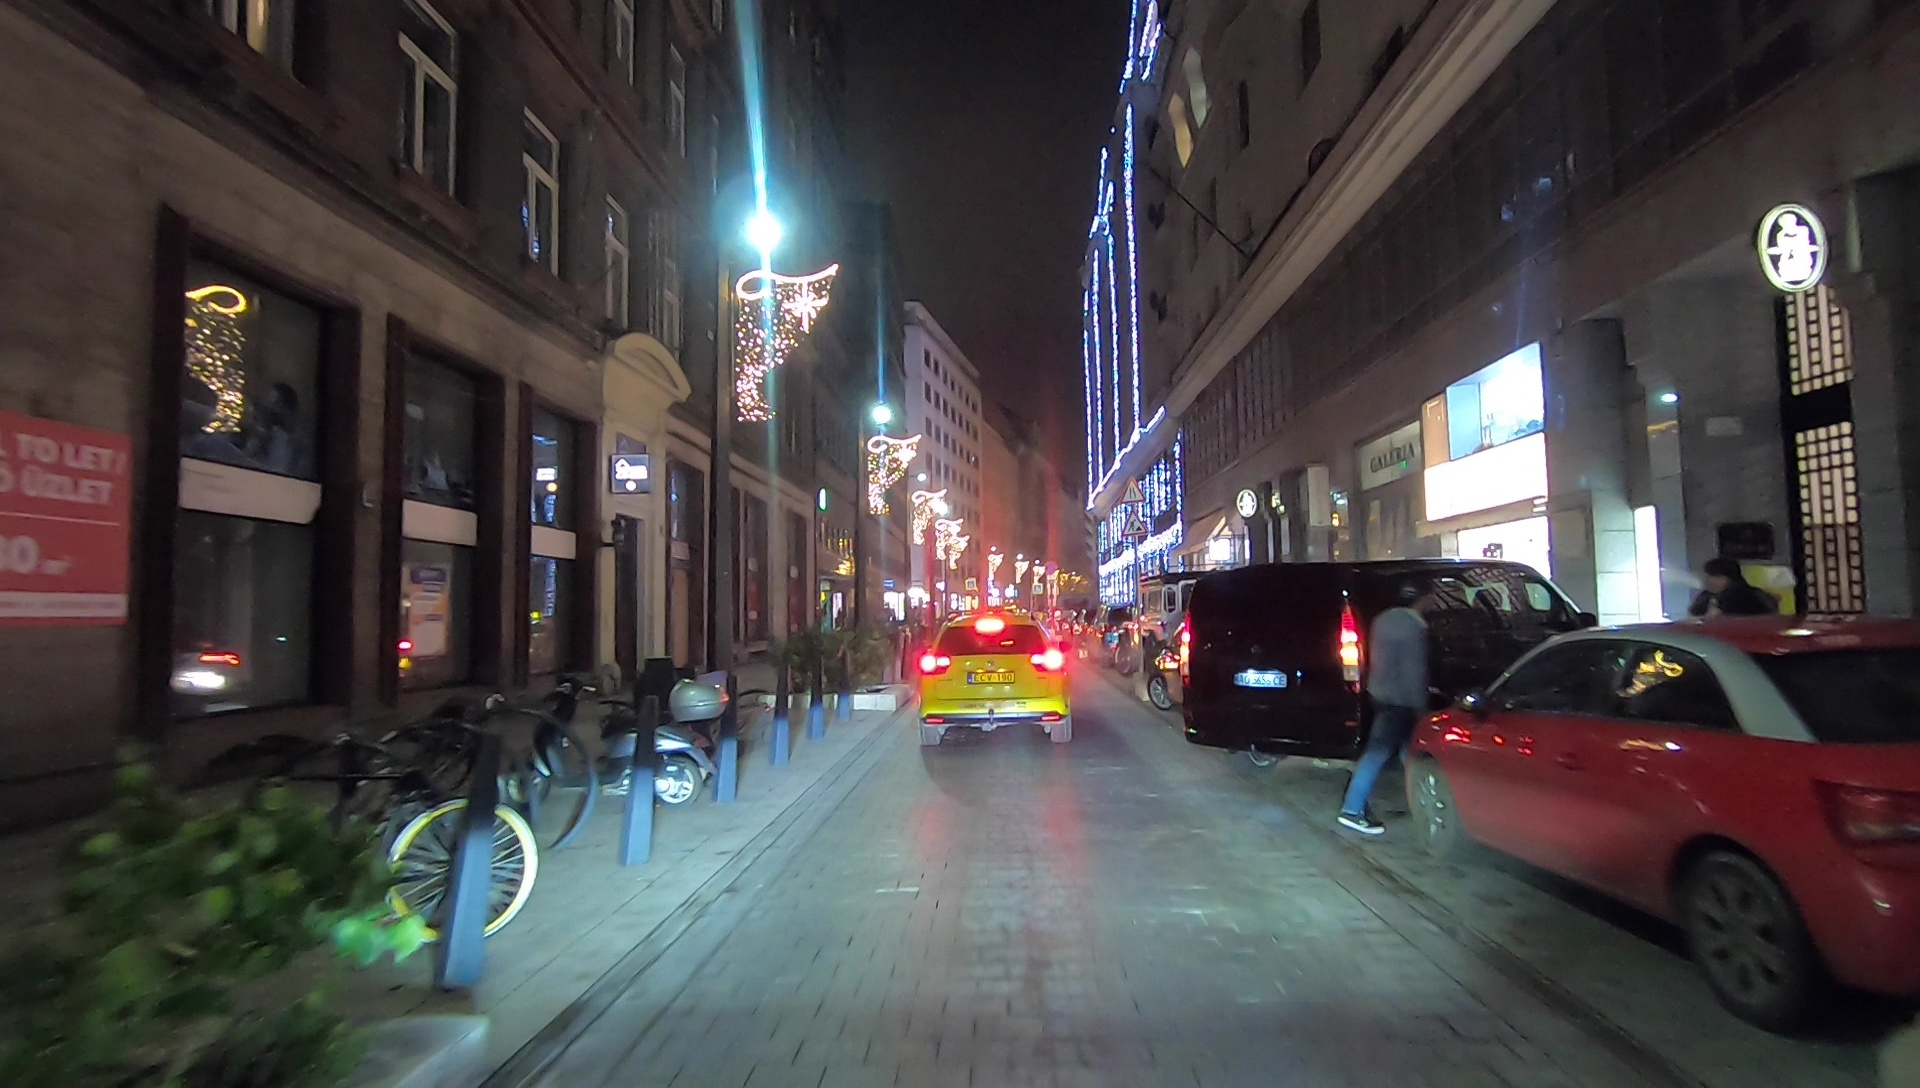person: (1339, 584, 1438, 837)
